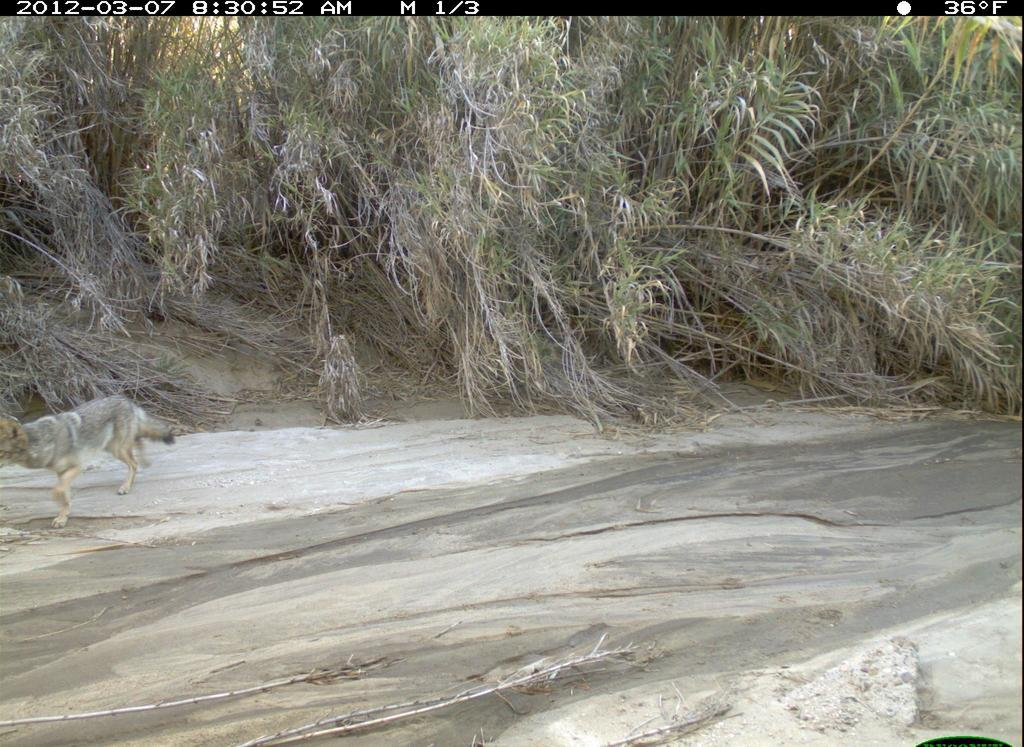coyote: (4, 390, 181, 534)
